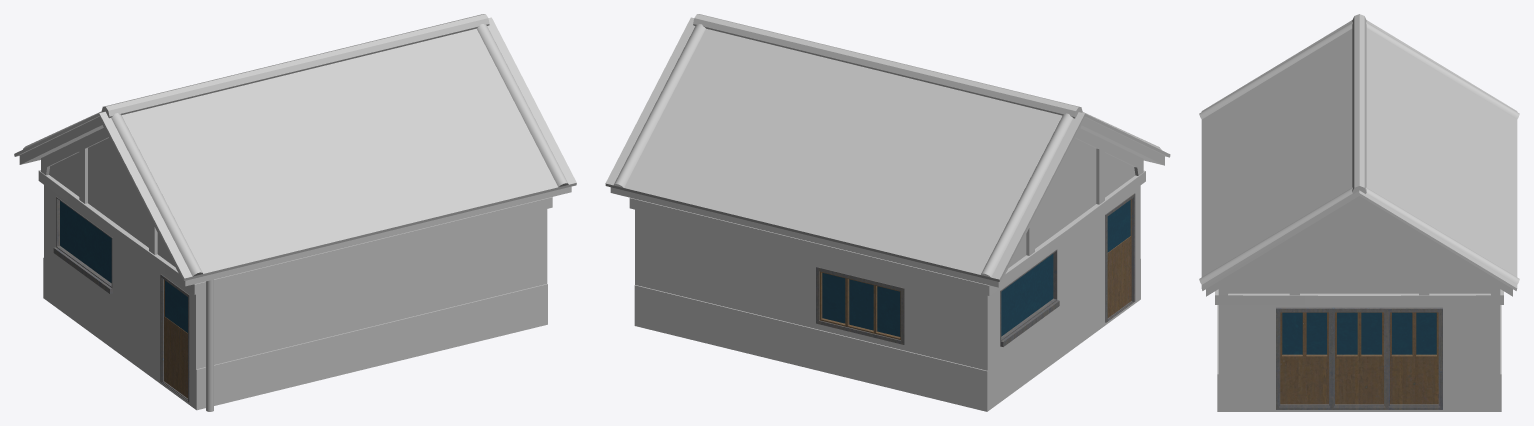
The model's file is House2-1.fbx.
The picture shows the model from 3 angles, left to right: view 1: azimuth 30°, elevation 25°; view 2: azimuth 150°, elevation 25°; view 3: azimuth 270°, elevation 25°; orthographic projection. The views are drawn at different scales.
Parts seen in each view (by area): view 1: House2-1; view 2: House2-1; view 3: House2-1.
Part boxes in pixels (x1,y1,x2,y2): House2-1: (14,14,576,411); House2-1: (605,14,1170,411); House2-1: (1199,14,1519,411).
Size of the model in its own units: 447 by 273 by 341.
